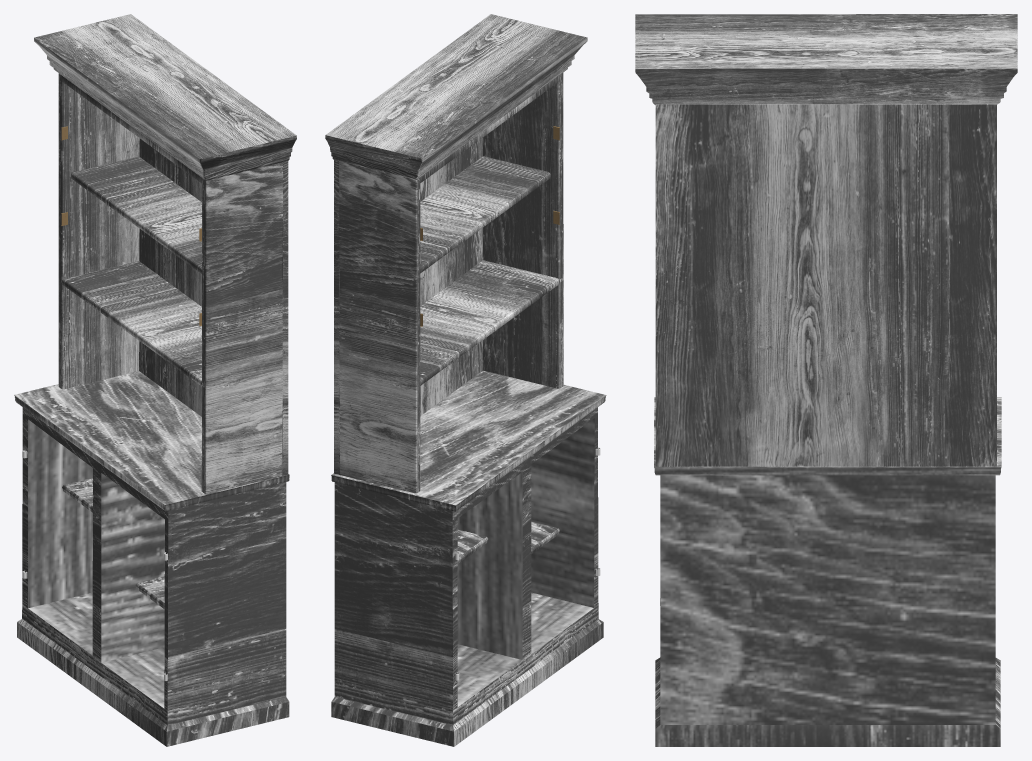
File: SM_Cabinet_D1.fbx
3 views of the same model, side by side, from view 1: azimuth 30°, elevation 25°; view 2: azimuth 150°, elevation 25°; view 3: azimuth 270°, elevation 25° (orthographic). The views are drawn at different scales.
Visible parts, largest first — view 1: SM_Cabinet_D1; view 2: SM_Cabinet_D1; view 3: SM_Cabinet_D1.
Part boxes in pixels (<box>): SM_Cabinet_D1: <box>14,14,296,746</box>; SM_Cabinet_D1: <box>325,14,606,746</box>; SM_Cabinet_D1: <box>635,14,1017,746</box>.
Bounding box in the file's own units: 41.84 × 96.05 × 188.
Materials: 4 (4 with a texture image).
